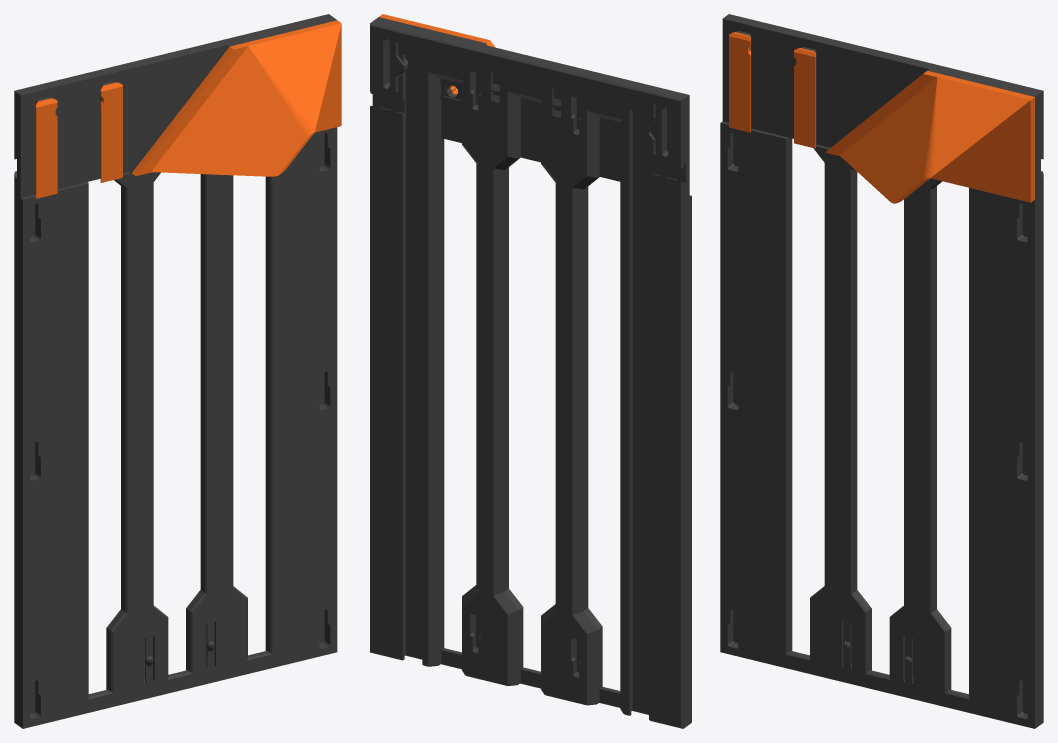
The model's file is Faceplate_EdgeLabel_1W-3H.lib.glb.
The picture shows the model from 3 angles, left to right: view 1: azimuth 30°, elevation 25°; view 2: azimuth 150°, elevation 25°; view 3: azimuth 330°, elevation 25°; orthographic projection.
Parts seen in each view (by area): view 1: Faceplate_EdgeLabel_1W-3H; view 2: Faceplate_EdgeLabel_1W-3H; view 3: Faceplate_EdgeLabel_1W-3H.
Part boxes in pixels (x1,y1,x2,y2): Faceplate_EdgeLabel_1W-3H: [14, 14, 341, 728]; Faceplate_EdgeLabel_1W-3H: [370, 14, 691, 728]; Faceplate_EdgeLabel_1W-3H: [720, 14, 1043, 728].
Size of the model in its own units: 87 by 167 by 24.1.
